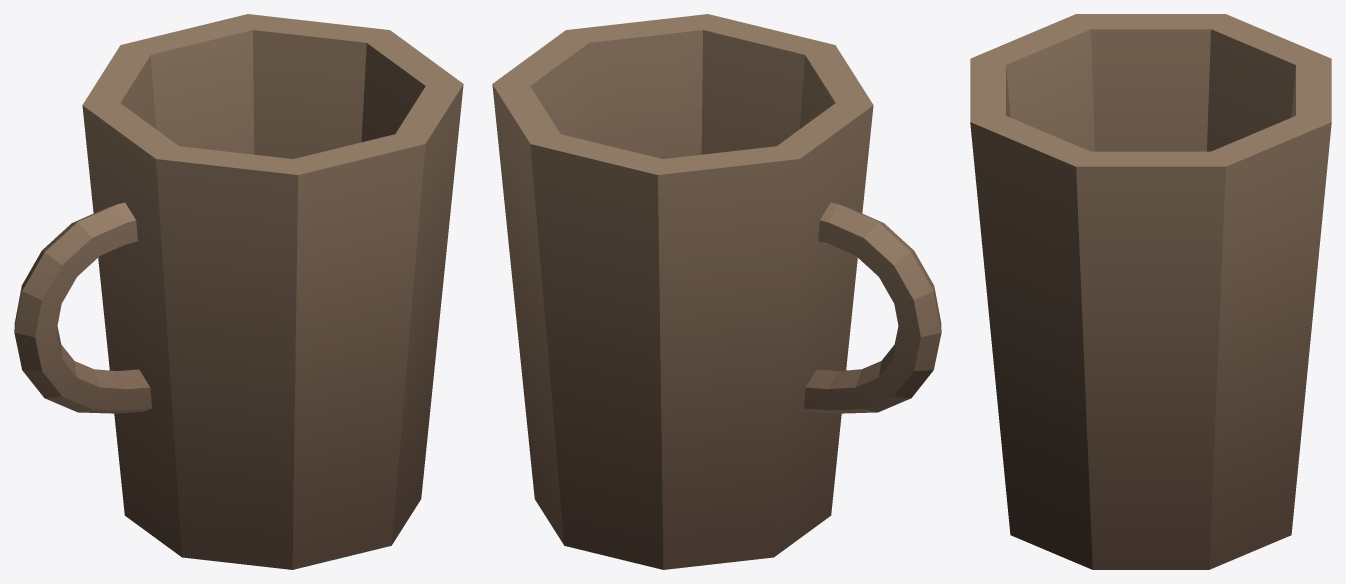
The model's file is Cup2_C5.fbx.
3 renders of one model, left to right at view 1: azimuth 30°, elevation 25°; view 2: azimuth 150°, elevation 25°; view 3: azimuth 270°, elevation 25°, orthographic.
Visible parts, largest first — view 1: Cup2_C5; view 2: Cup2_C5; view 3: Cup2_C5.
Part boxes in pixels (<box>): Cup2_C5: <box>14,14,463,569</box>; Cup2_C5: <box>492,14,941,569</box>; Cup2_C5: <box>970,14,1331,569</box>.
Bounding box in the file's own units: 12.45 × 11.91 × 9.29.
